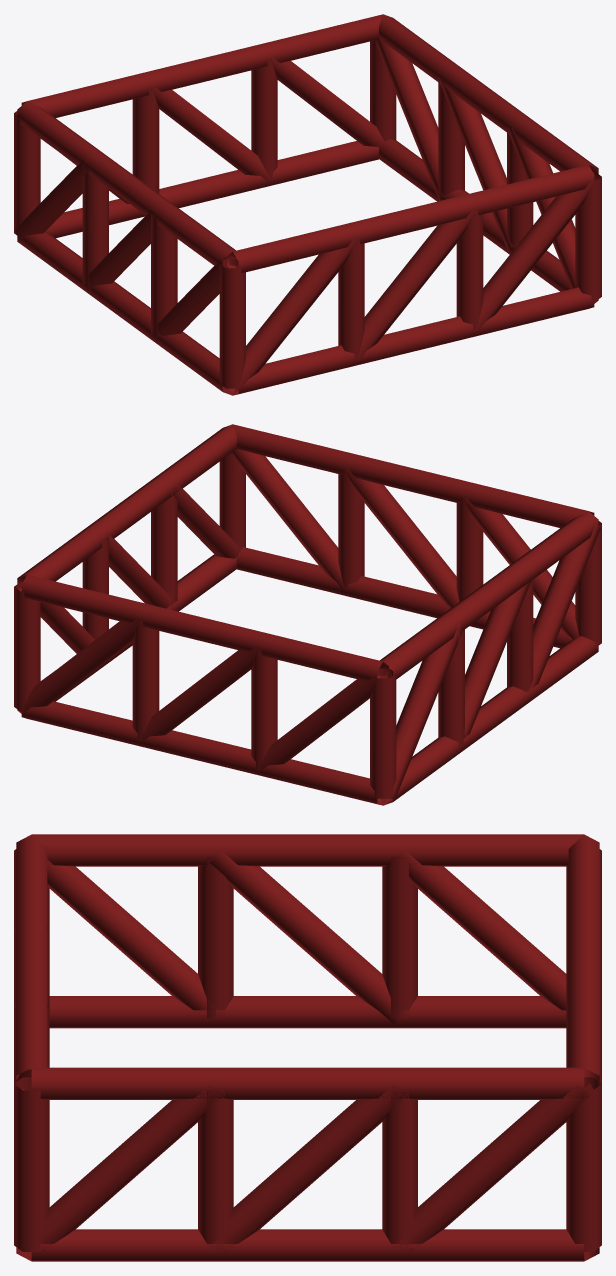
File: andamio2.DAE
3 renders of one model, top to bottom at view 1: azimuth 30°, elevation 25°; view 2: azimuth 150°, elevation 25°; view 3: azimuth 270°, elevation 25°, orthographic. The views are drawn at different scales.
Parts seen in each view (by area): view 1: andamio9_30; view 2: andamio9_30; view 3: andamio9_30.
Boxes of the visible parts, left/top/right/bottom form: andamio9_30: left=14, top=14, right=601, bottom=395; andamio9_30: left=14, top=424, right=601, bottom=805; andamio9_30: left=14, top=834, right=601, bottom=1261.
Size of the model in its own units: 9.82 by 9.9 by 3.6.
